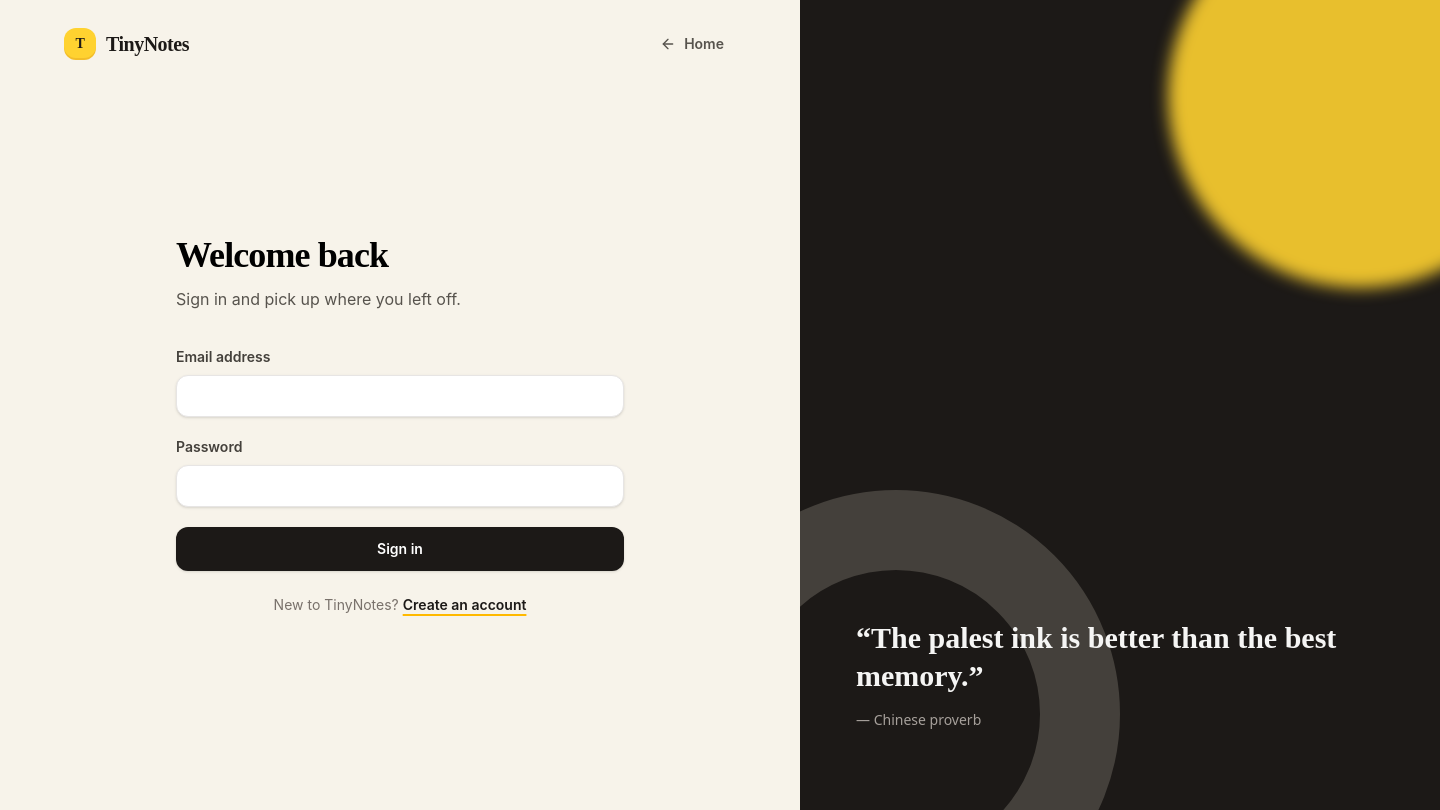
Test: SignInPage › renders authentication failures from the mutation state
This screenshot has width=1440, height=810.
In the field labelled "Email address": (400, 396) [176,375,624,417], type "reader@example.com"
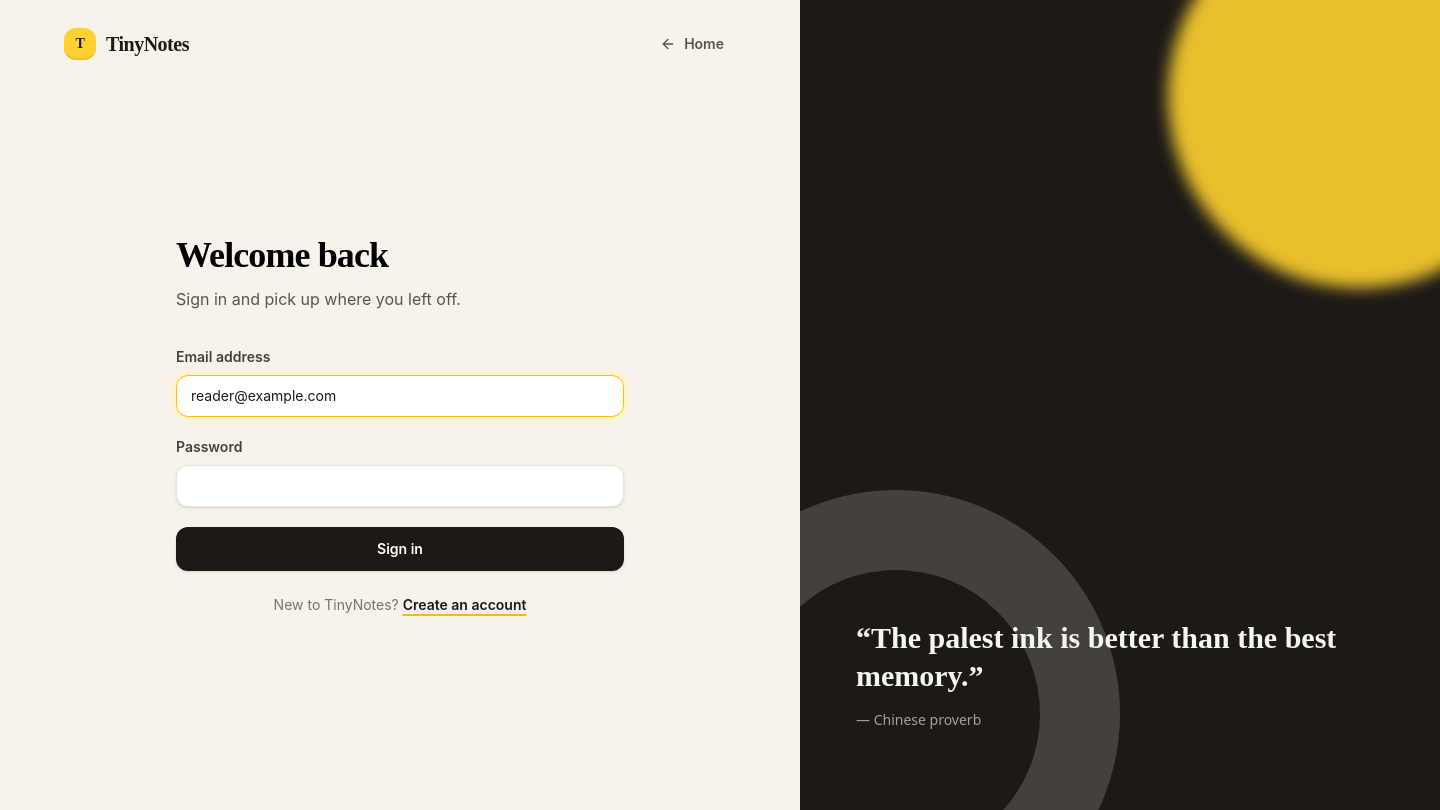
In the password field labelled "Password": (400, 486) [176,465,624,507], type "correct-length"
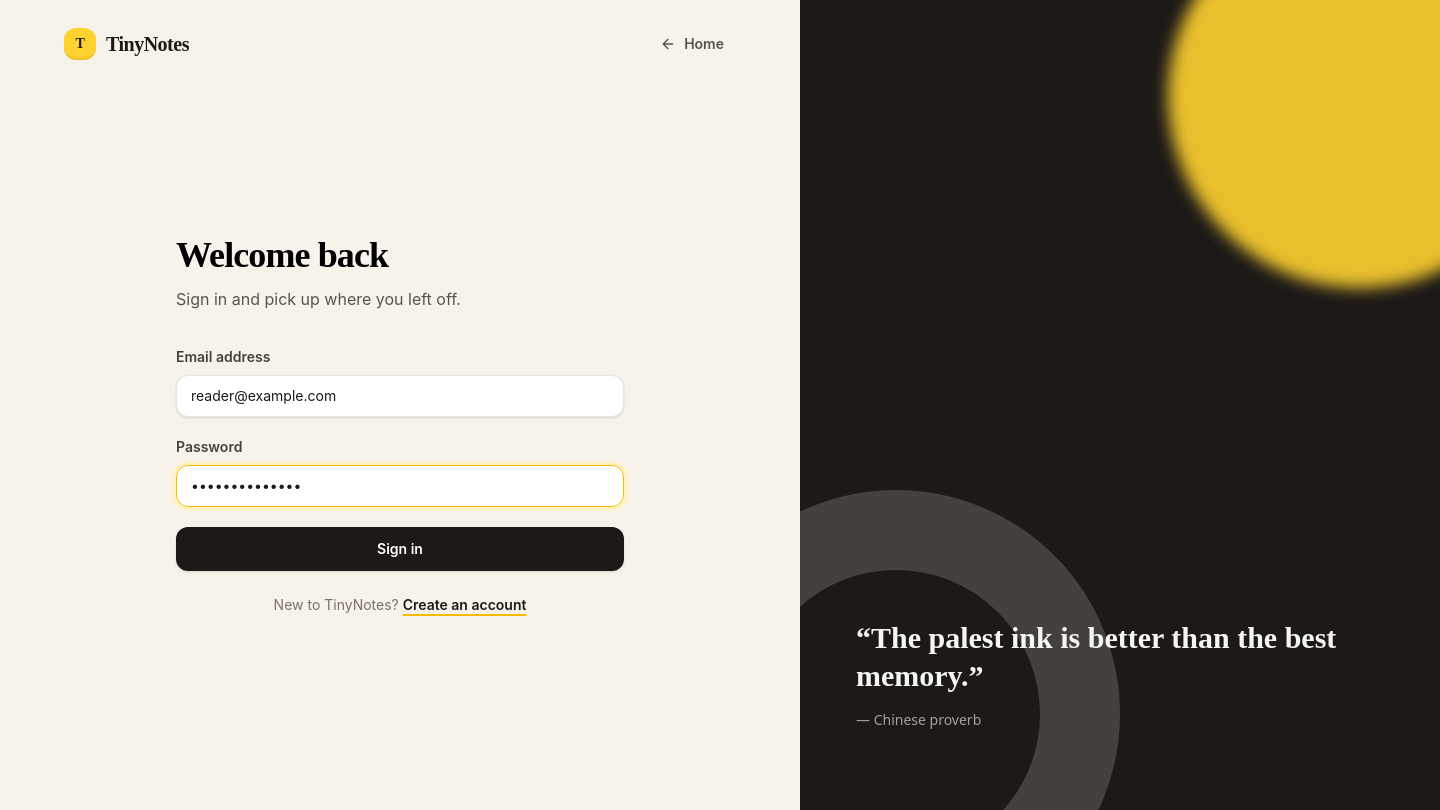
Click the button "Sign in": (400, 549) [176,527,624,571]
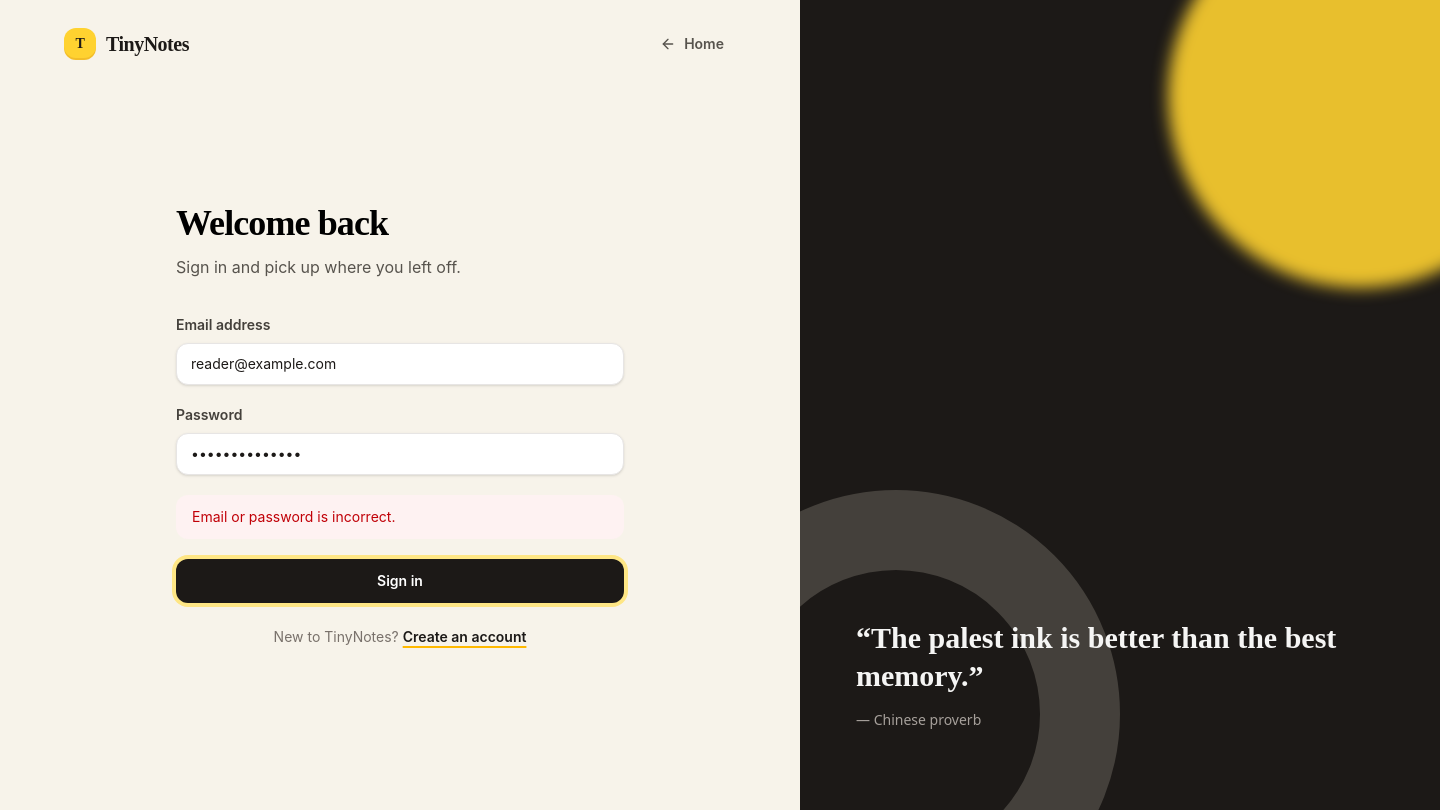
Check: the message reads "Email or password is incorrect.", box [192,508,395,525]
